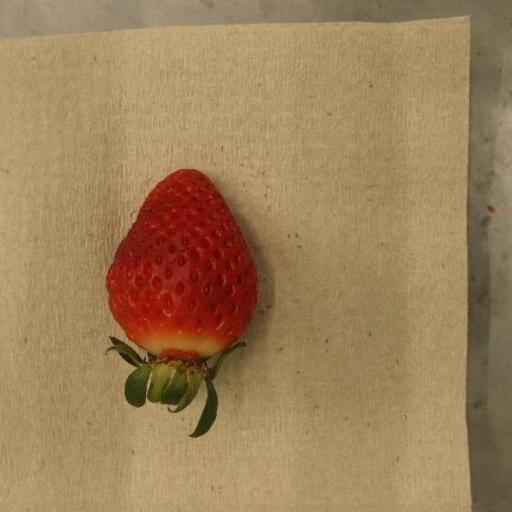Strawberry: (105, 169, 258, 439)
